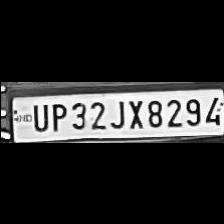2: (86, 97, 106, 129), (164, 95, 182, 127)
3: (67, 97, 87, 129)
4: (202, 93, 220, 125)
8: (144, 96, 162, 128)
9: (182, 94, 200, 126)
J: (107, 96, 125, 128)
P: (47, 99, 66, 131)
U: (27, 99, 47, 131)
X: (124, 96, 144, 130)
